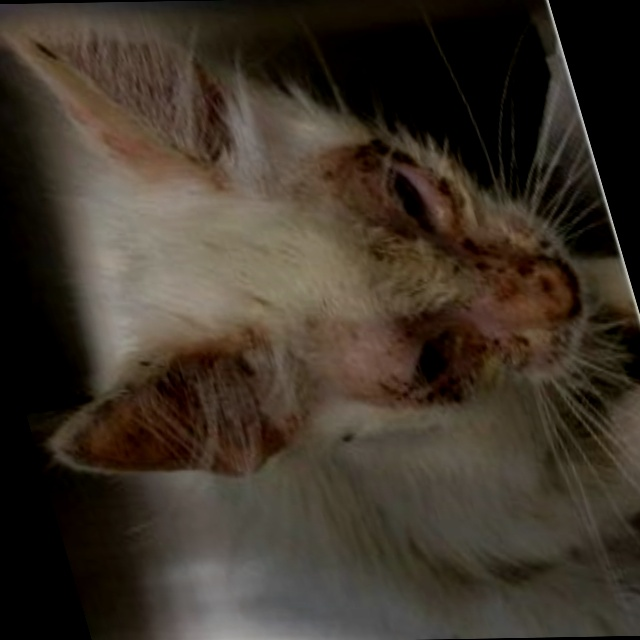ringworm: (337, 309, 444, 394), (452, 237, 552, 314), (300, 139, 396, 219), (441, 329, 526, 372)
